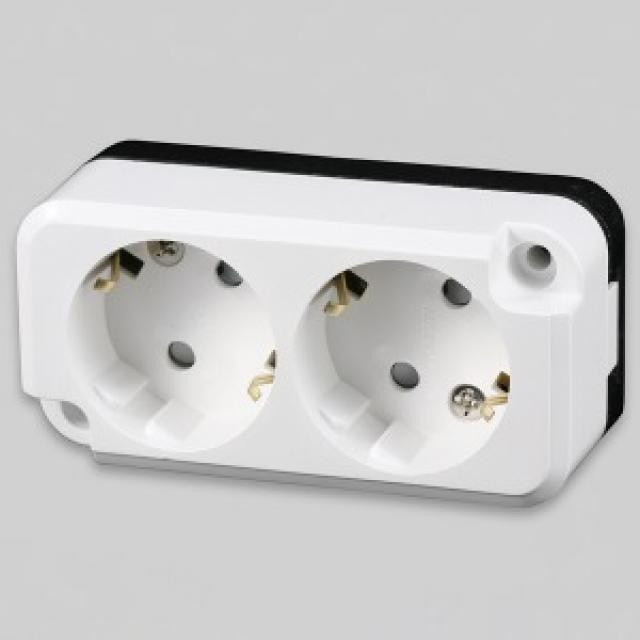typeb: (30, 124, 634, 530)
